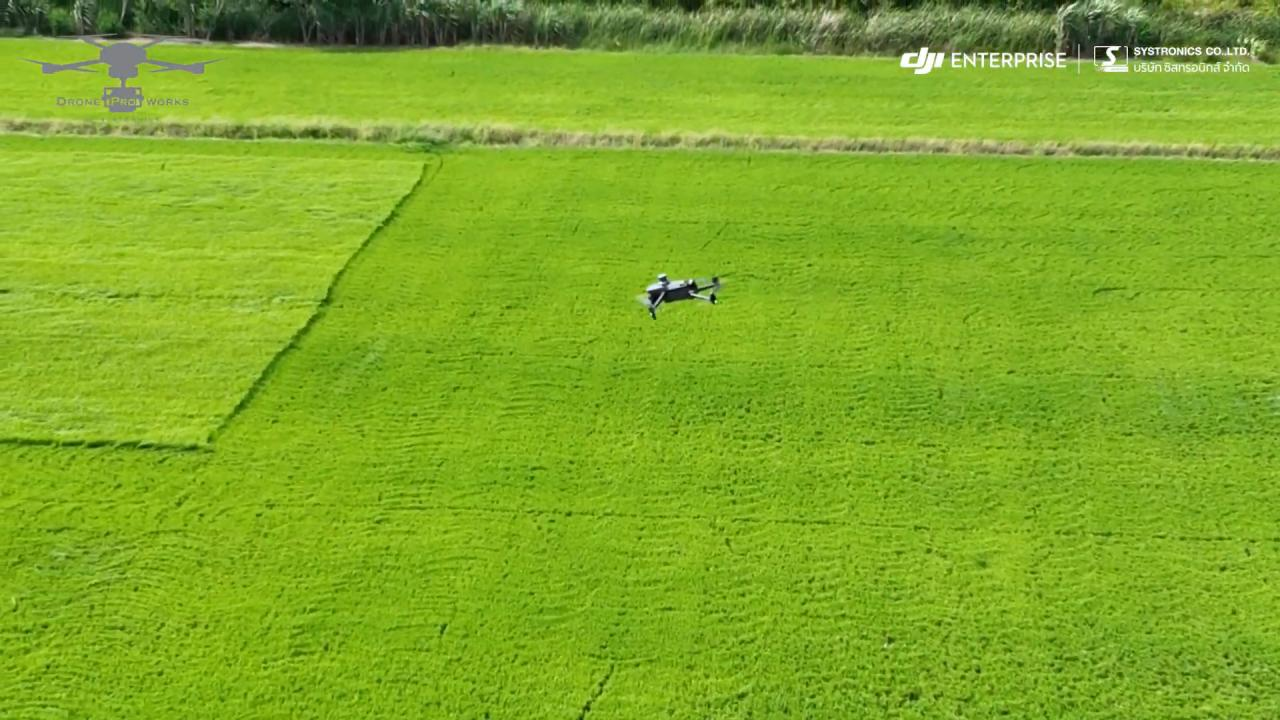Drone: (622, 261, 744, 327)
